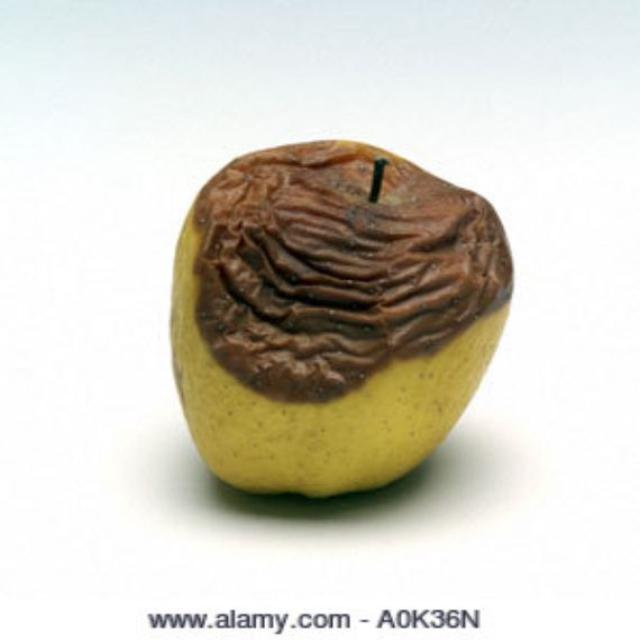Rotten Apple: (154, 121, 536, 506)
